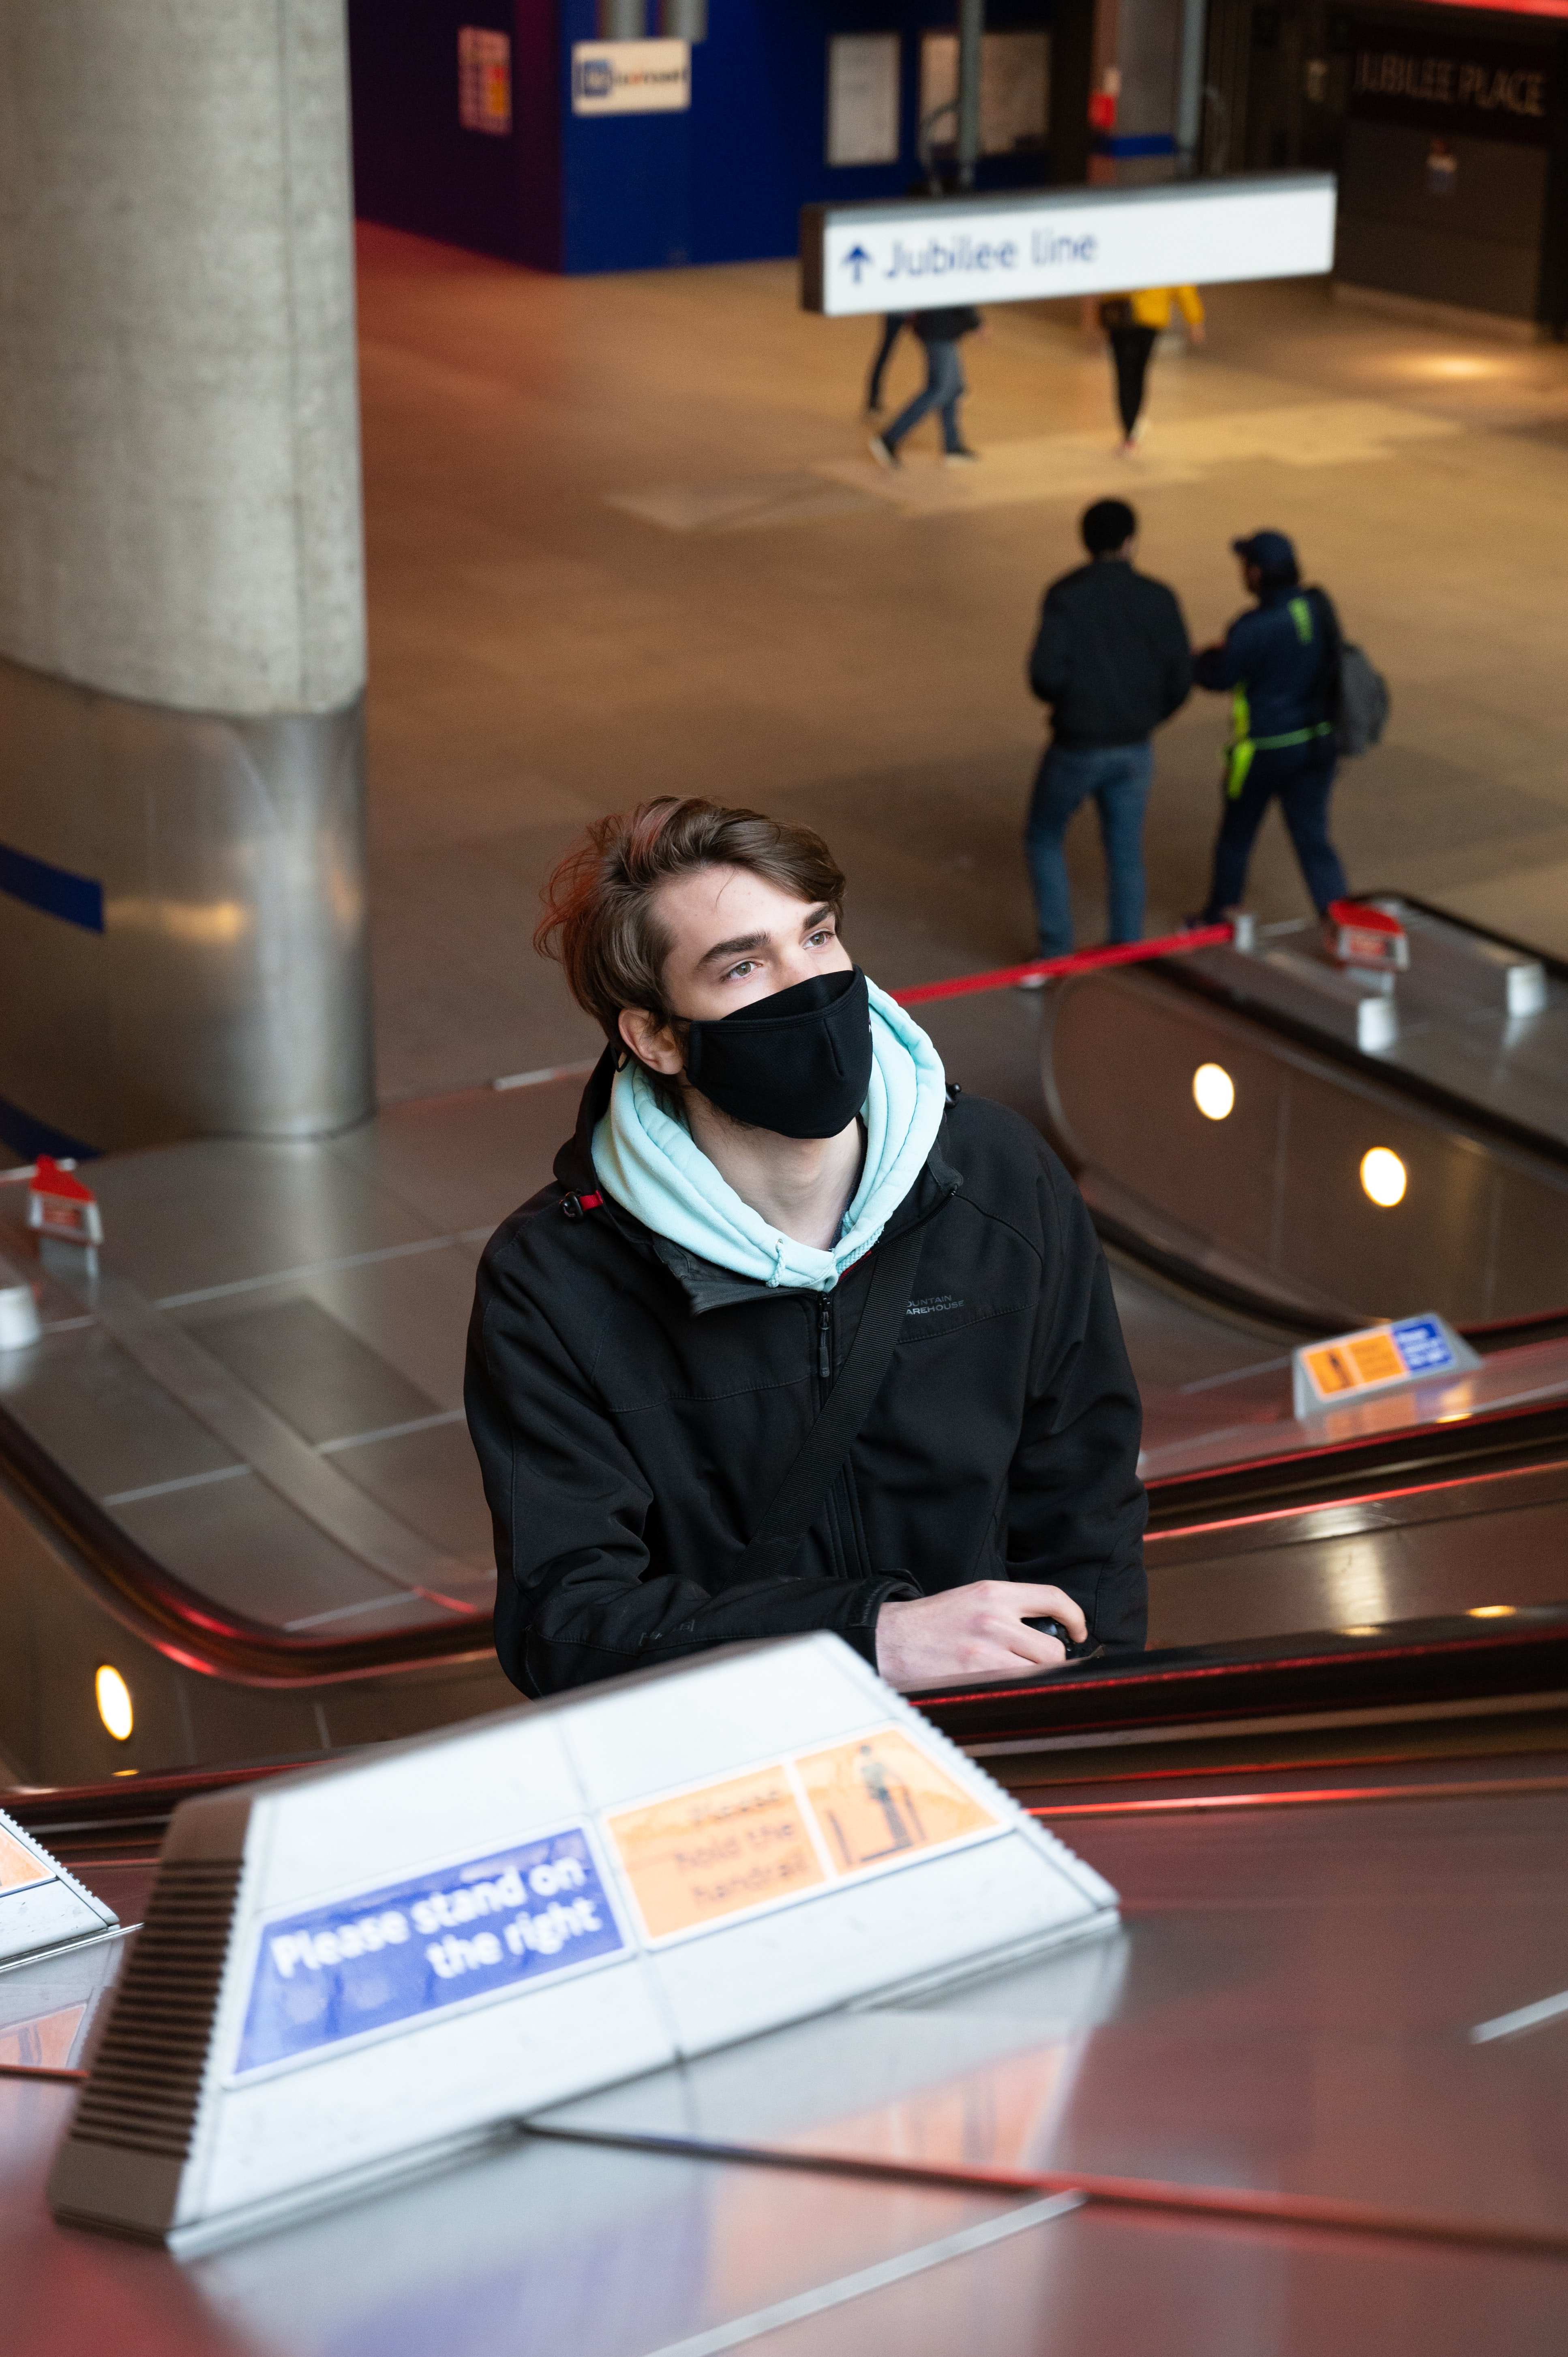mask: (659, 969, 935, 1117)
person: (451, 771, 1192, 1693)
